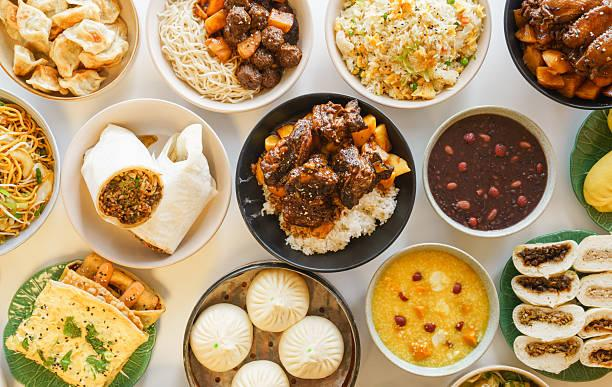Braised Crucian Carp: (235, 92, 407, 269), (59, 98, 226, 269), (182, 261, 357, 386), (7, 256, 164, 385), (145, 0, 303, 115), (364, 241, 495, 378), (325, 0, 484, 111), (422, 105, 553, 236), (3, 0, 139, 102)
